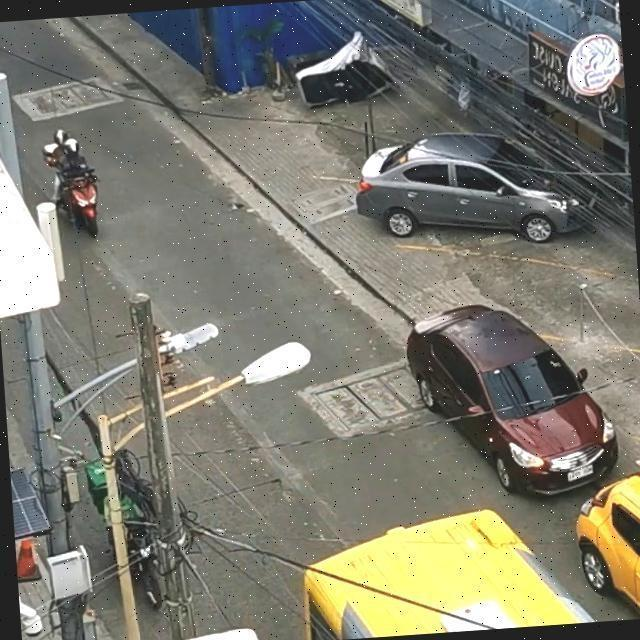Others: (239, 471, 640, 640)
